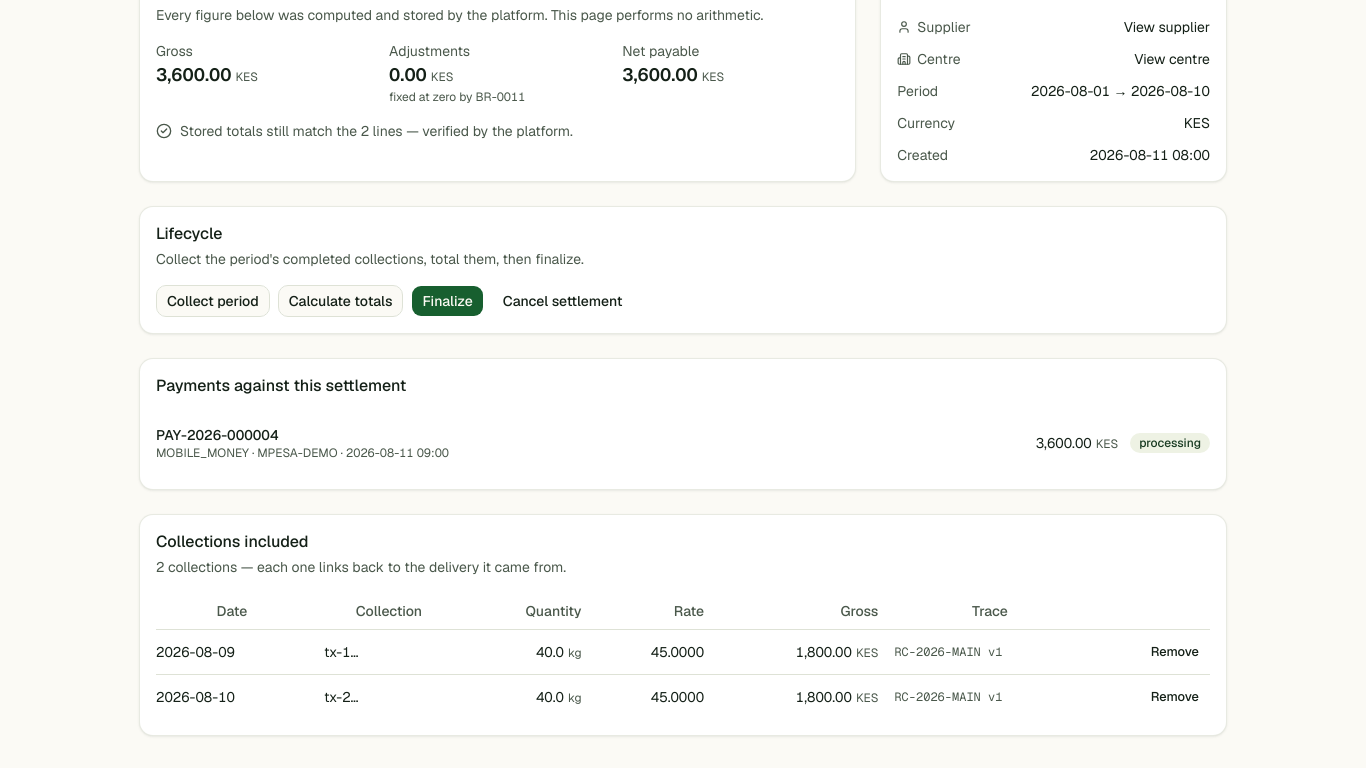
Test case: settlement detail › tells the operator the totals must be recalculated before finalizing
The width and height of the screenshot is (1366, 768).
(page scrolled)
Click the button "Remove" in the row of "2026-08-09" at (1175, 652), box top-left (1140, 638), bottom-right (1210, 666)
(page scrolled)
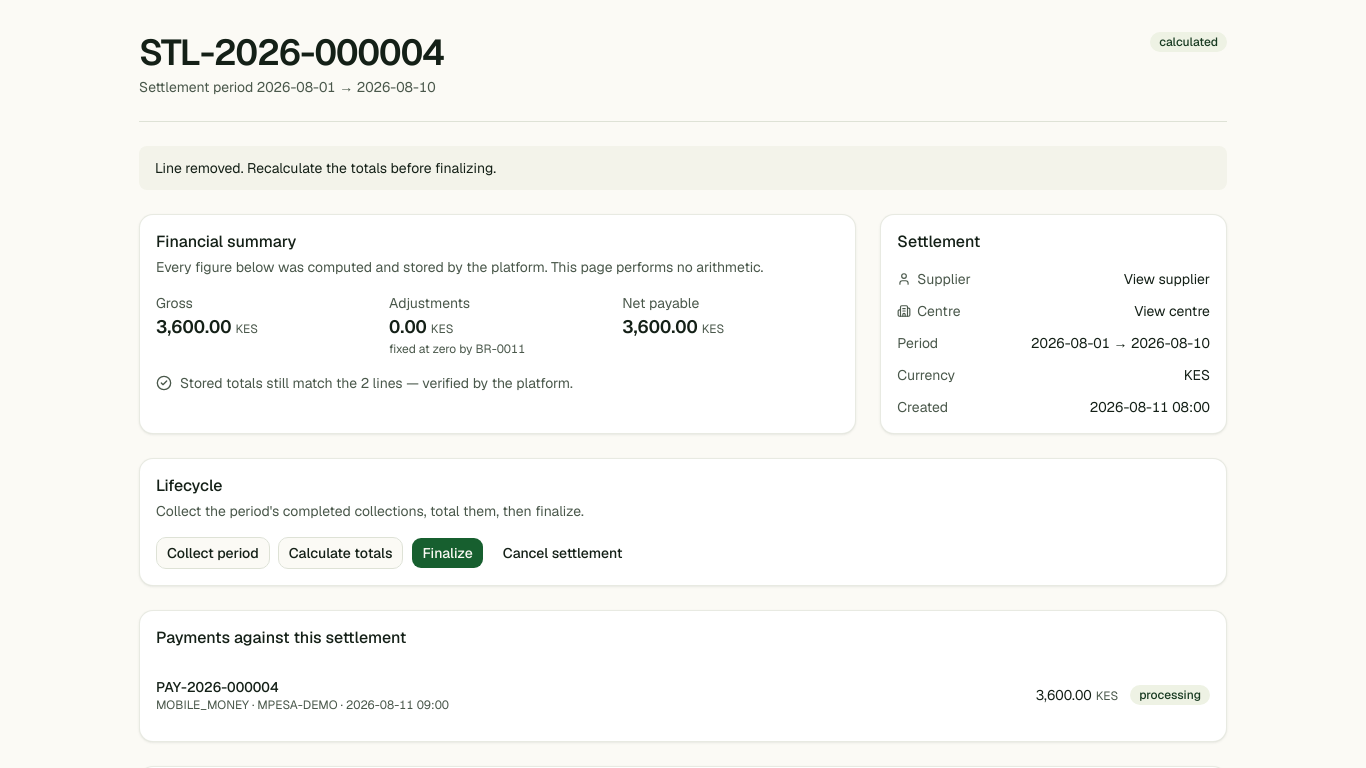
Expected: the text "Line removed. Recalculate the totals before finalizing." is shown, top-left (139, 146), bottom-right (1227, 190)
